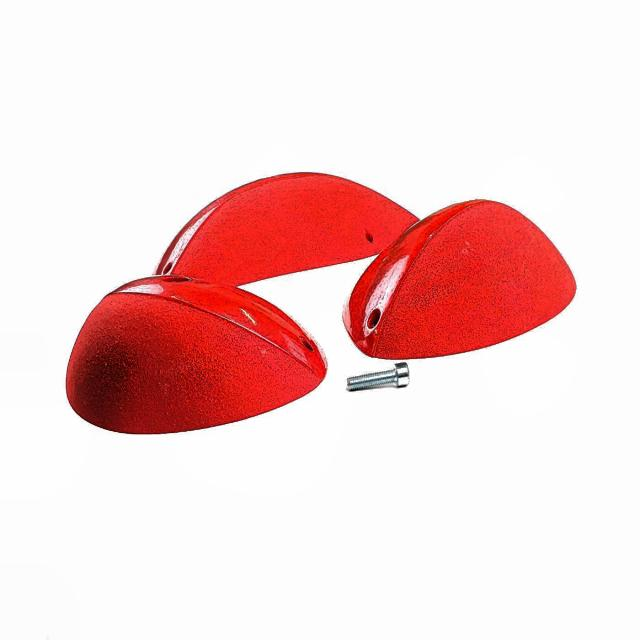Hold: (70, 273, 330, 439), (346, 196, 584, 367), (142, 175, 418, 278)
